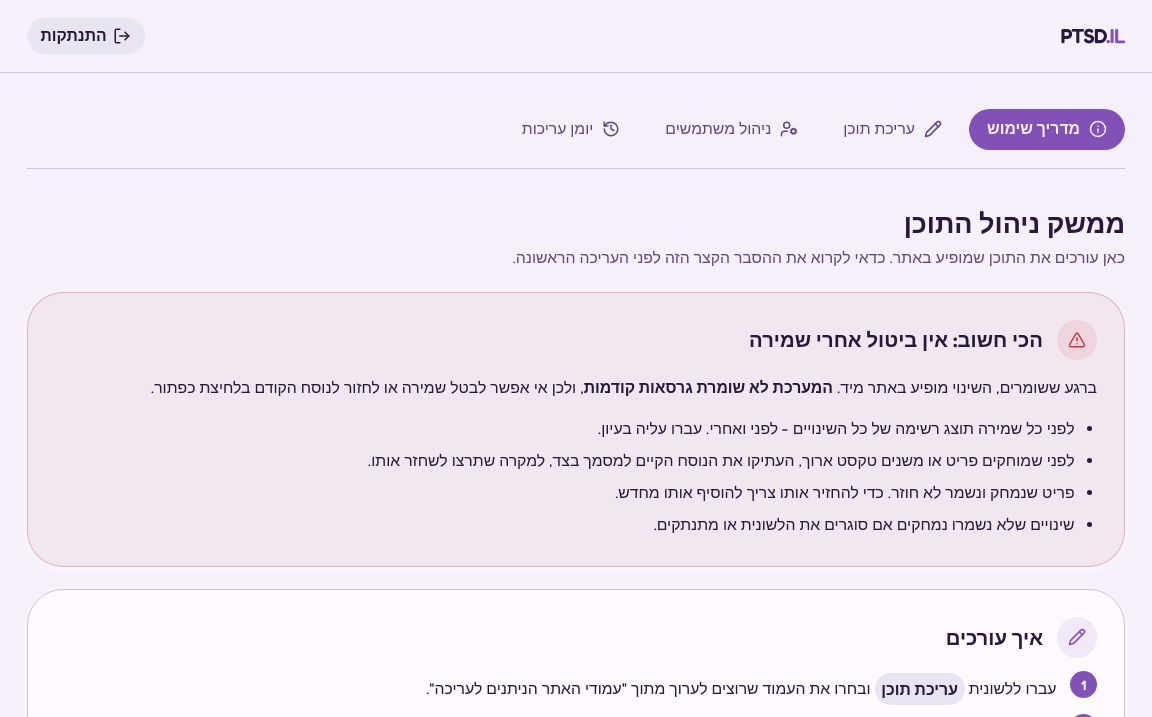
Test: chatbot Q&A admin › lists the questions in /admin: question, crisis badge, paraphrase count
Click the button "עריכת תוכן" at [893, 129], box [825,109,960,150]
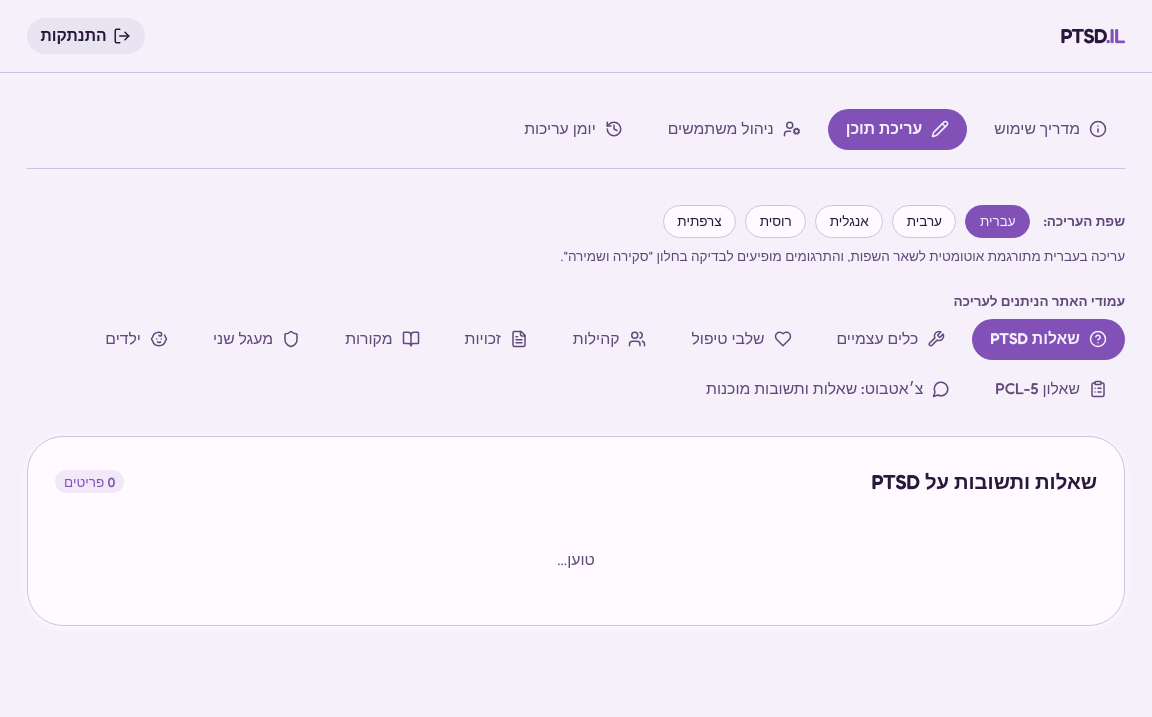
Click the button "צ׳אטבוט: שאלות ותשובות מוכנות" at [828, 389], box [688,368,968,409]
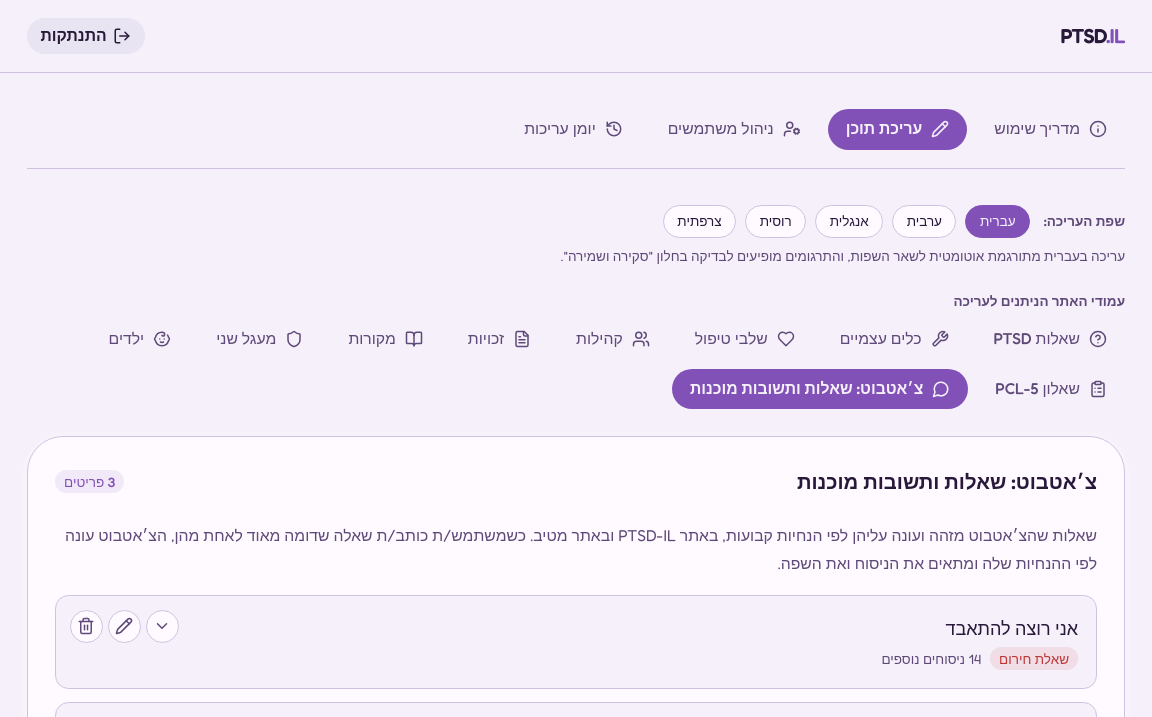
Now the text "שאלת חירום" is shown, box [990,647,1078,670]
Now the text "3 פריטים" is shown, box [55,470,124,493]
